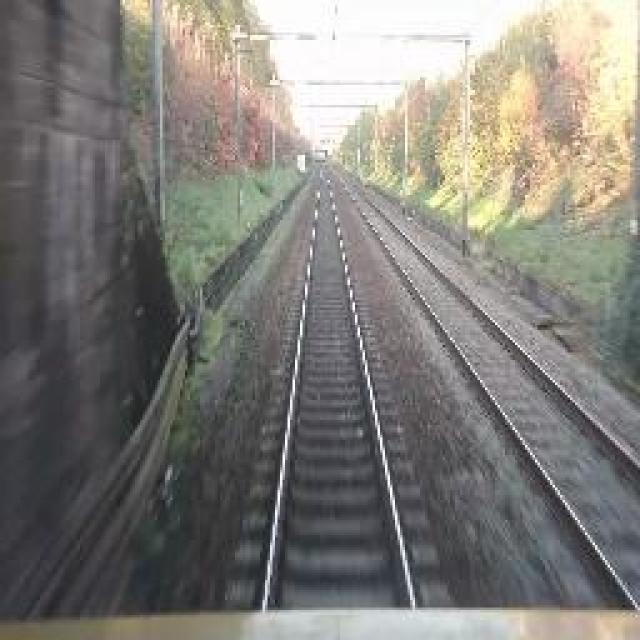rail: (212, 155, 460, 615)
